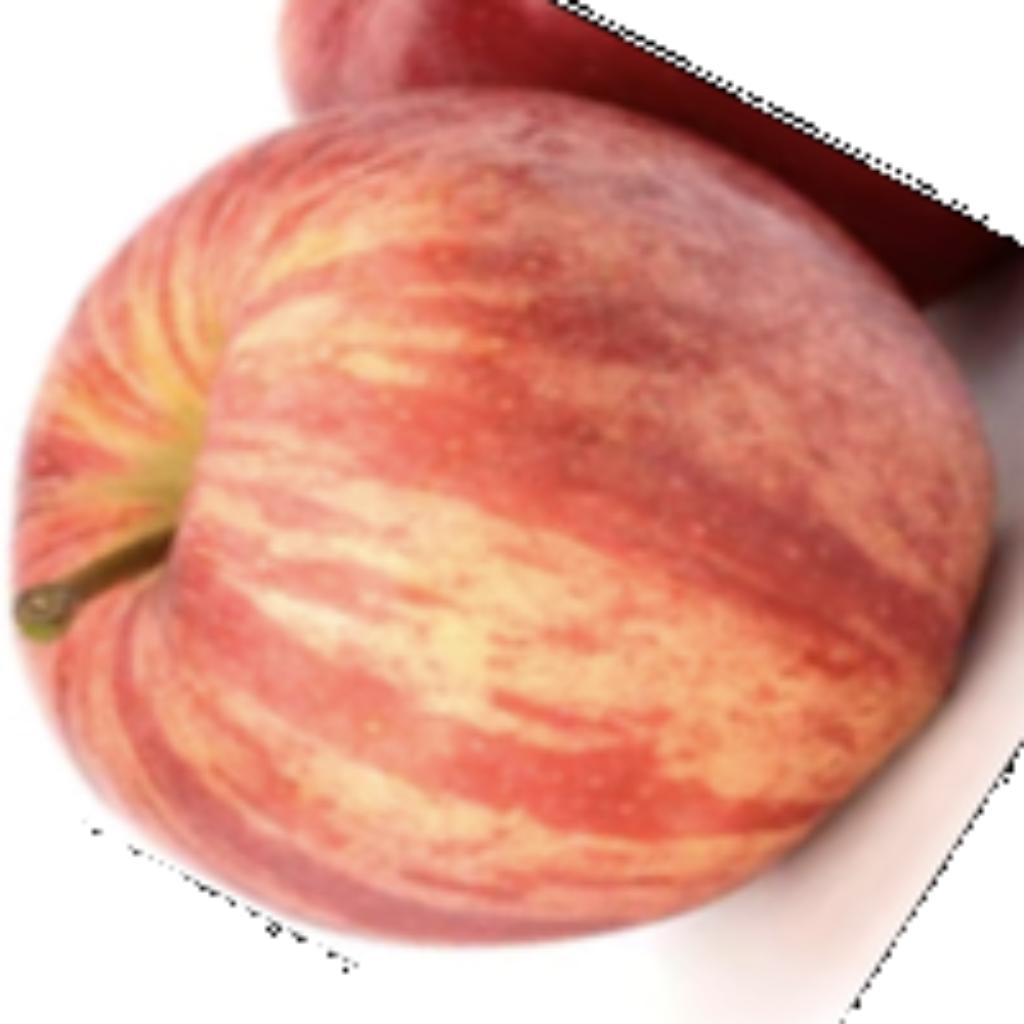apple: (5, 0, 1019, 973)
